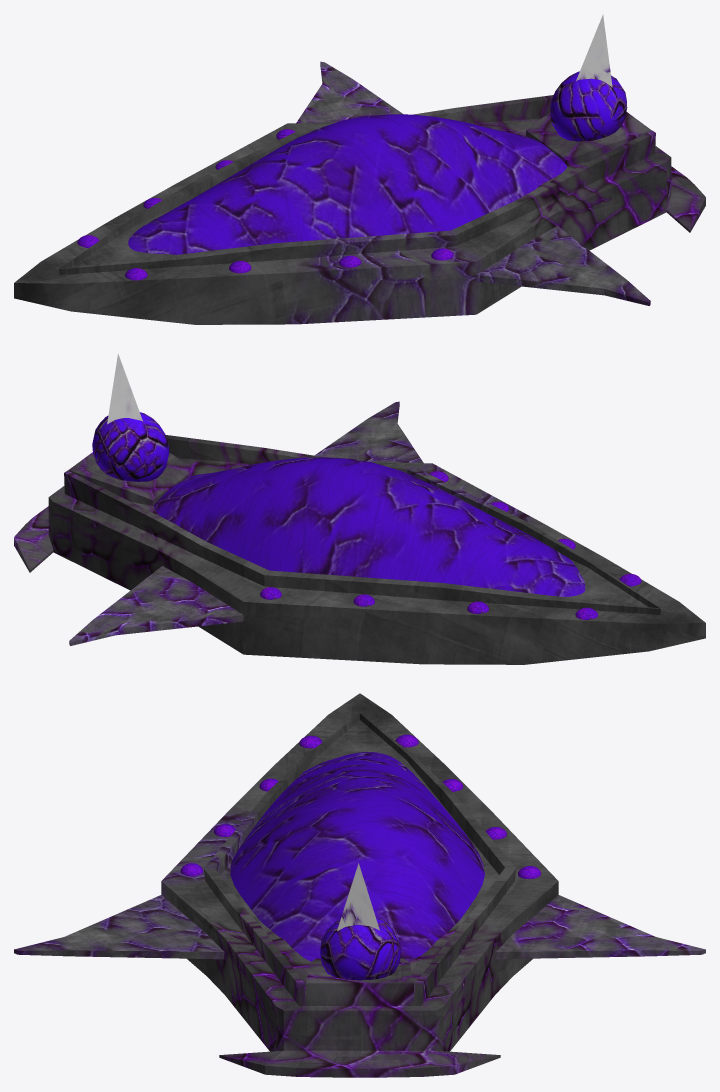
Rendered from Spaceship.FBX.
3 renders of one model, top to bottom at view 1: azimuth 30°, elevation 25°; view 2: azimuth 150°, elevation 25°; view 3: azimuth 270°, elevation 25°, orthographic. The views are drawn at different scales.
Parts seen in each view (by area): view 1: Box001, Object001, Sphere001, Pyramid001; view 2: Box001, Object001, Sphere001, Pyramid001; view 3: Box001, Object001, Sphere001, Pyramid001.
Part boxes in pixels (box(x1,y1,x2,y2)): Box001: box(14, 61, 705, 324); Object001: box(128, 114, 567, 254); Sphere001: box(550, 71, 627, 141); Pyramid001: box(576, 14, 612, 87); Box001: box(14, 401, 705, 664); Object001: box(153, 457, 585, 596); Sphere001: box(92, 412, 169, 481); Pyramid001: box(107, 353, 142, 424); Box001: box(14, 693, 705, 1077); Object001: box(230, 752, 484, 961); Sphere001: box(320, 917, 400, 980); Pyramid001: box(337, 863, 379, 930).
Bounding box in the file's own units: 158 × 41.42 × 138.
1 material, 1 textured.
